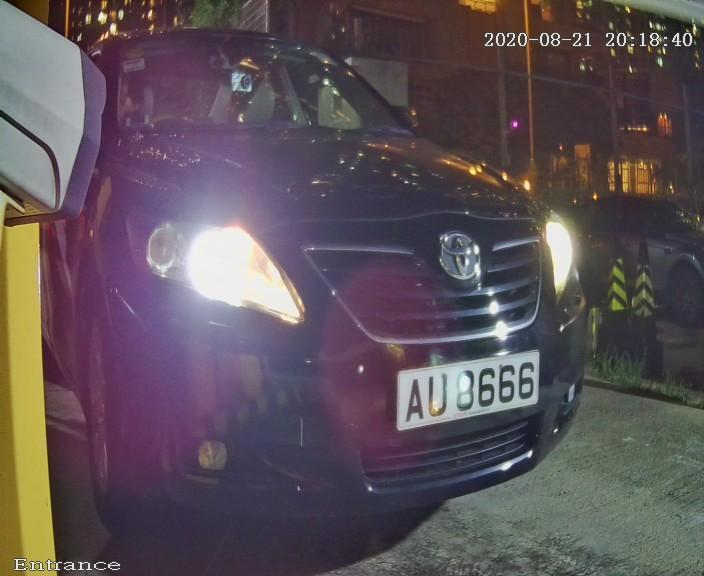Car: (16, 6, 632, 566)
License Plate: (372, 336, 562, 445)
